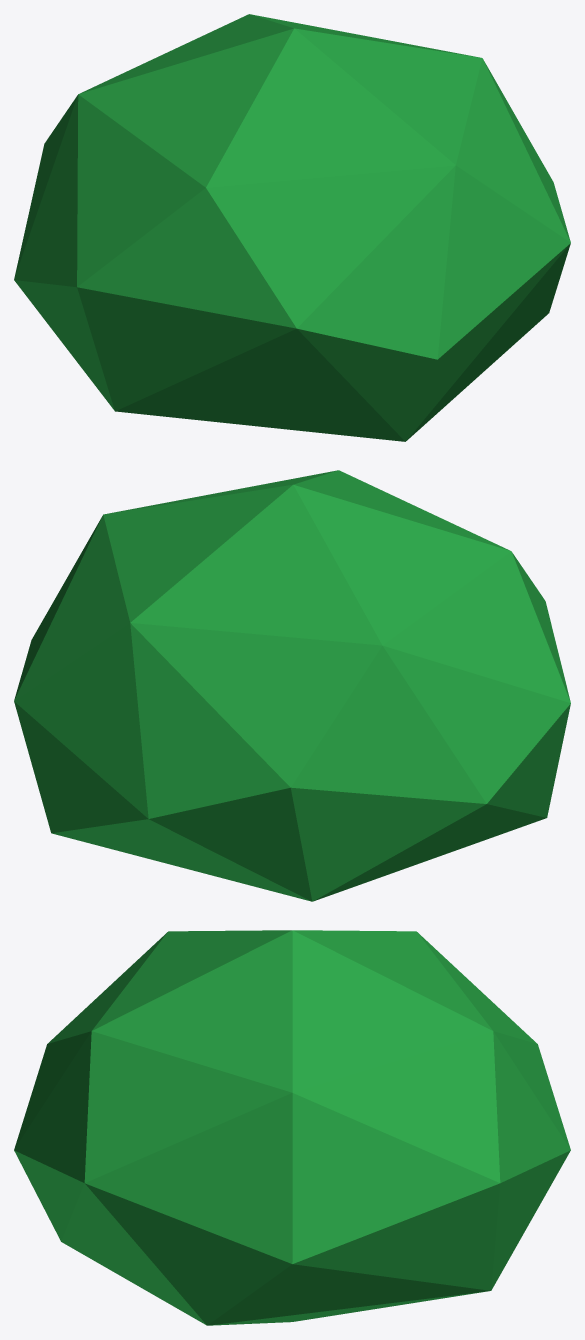
File: Bush.fbx
3 renders of one model, top to bottom at view 1: azimuth 30°, elevation 25°; view 2: azimuth 150°, elevation 25°; view 3: azimuth 270°, elevation 25°, orthographic. The views are drawn at different scales.
Visible parts, largest first — view 1: Bush; view 2: Bush; view 3: Bush.
Boxes of the visible parts, x1,y1,x2,y2 form: Bush: [14, 14, 570, 441]; Bush: [14, 470, 570, 901]; Bush: [14, 930, 570, 1325].
Size of the model in its own units: 146 by 93.68 by 143.
